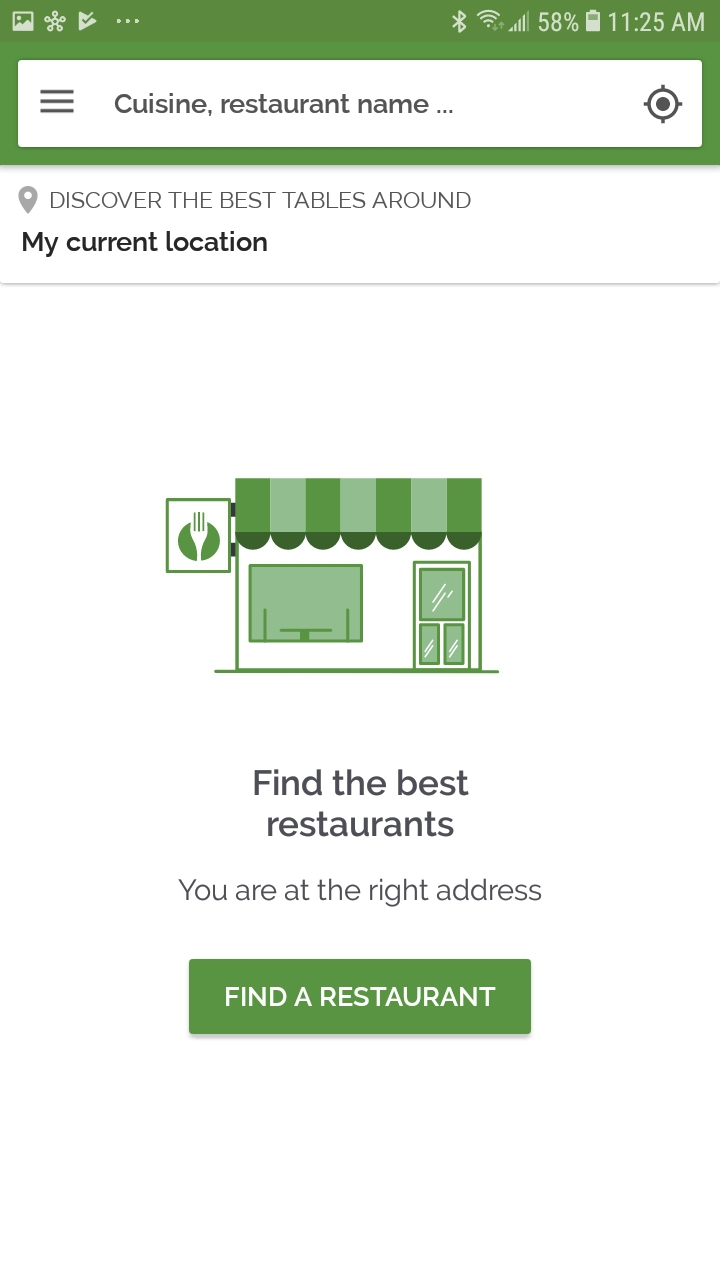EditText: (19, 61, 702, 148)
Icon: (643, 85, 683, 125), (41, 90, 75, 114), (18, 187, 39, 215)
Image: (166, 477, 500, 675)
Text: (254, 769, 469, 838), (178, 878, 542, 908), (115, 93, 453, 117), (51, 192, 472, 210), (23, 231, 268, 258)
TextButton: (190, 959, 532, 1035)
UpperTaskBar: (1, 1, 720, 43)
